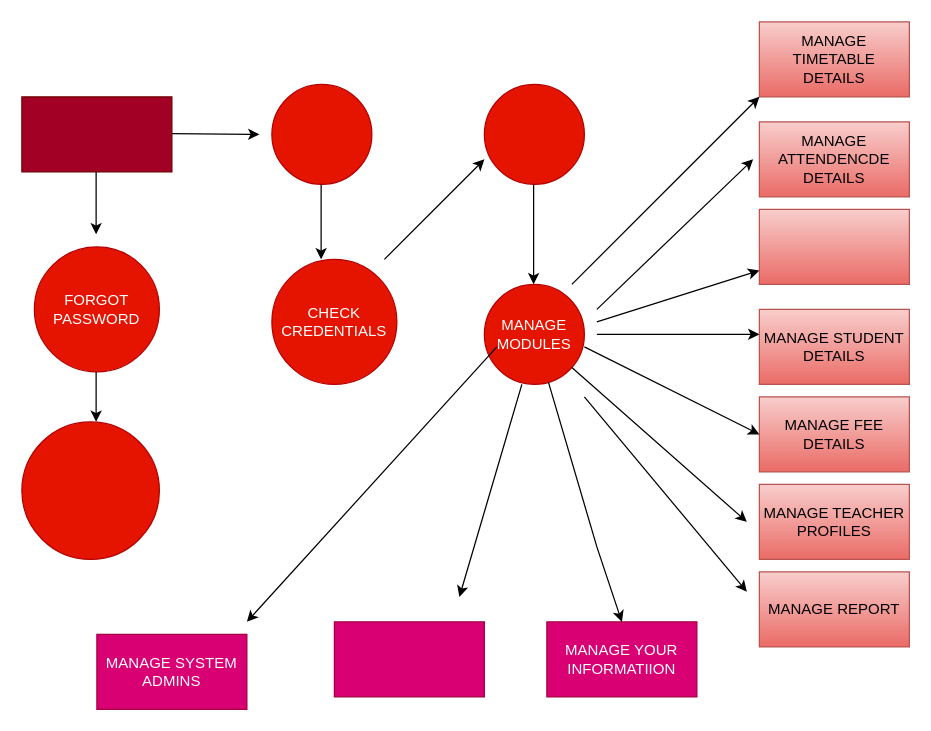
This 931x731 diagram has some shape labels left out. The shapes that lost their labels are listed below. From the top down, each one's box as (x1, y1, x2, y2) in pixels, then its label:
(21, 96, 172, 172): ADMIN
(271, 83, 372, 184): LOGIN TO SYSTEM
(483, 83, 584, 184): CHECK ROLES OF ACCES
(758, 208, 909, 284): MANAGE CLASS DETAILS
(21, 421, 159, 559): SEND EMAILTO USER
(333, 621, 484, 697): MANAGE ROLES OF USER
